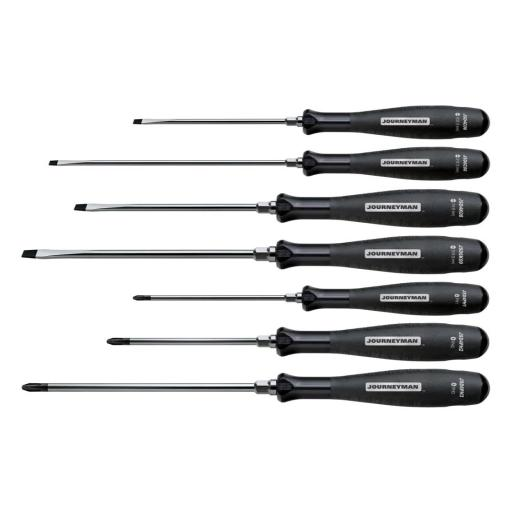screwdriver: (21, 367, 489, 409), (21, 235, 491, 274), (74, 188, 490, 229), (46, 145, 490, 181), (107, 324, 488, 362), (134, 104, 490, 140), (132, 281, 490, 316)
